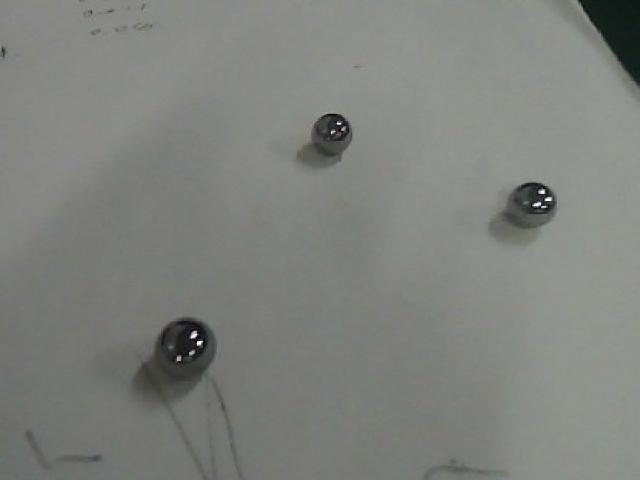steel-ball: (149, 306, 223, 392), (496, 162, 564, 243), (289, 93, 363, 164)
